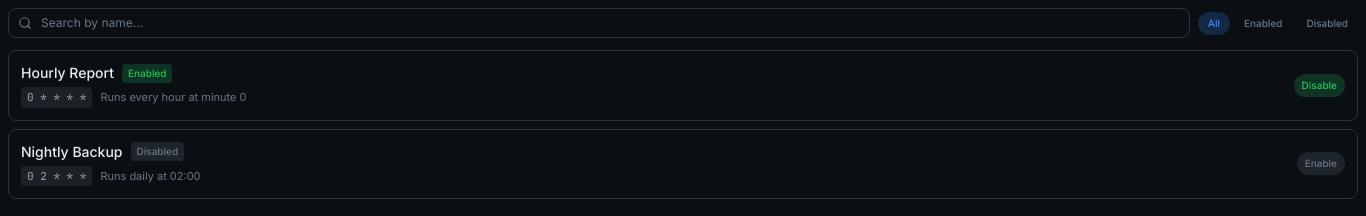
ScheduleViewerPane › filters by enabled/disabled pills
Expected: the text "Hourly Report" is shown, x1=21 y1=63 x2=114 y2=83
Click the button "disabled". click: click(1327, 23)
box: x1=1296 y1=12 x2=1358 y2=34
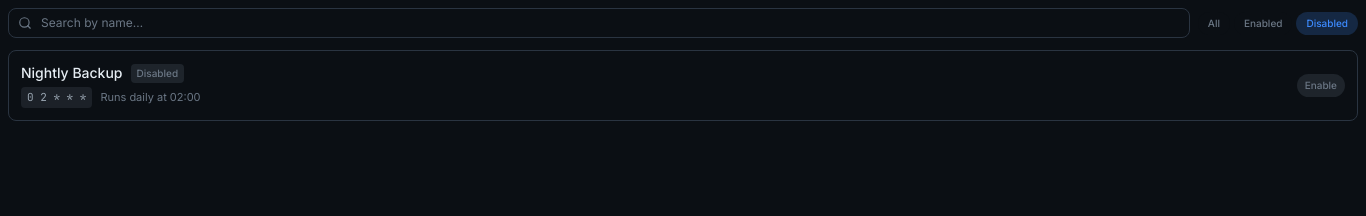
Expected: the text "Nightly Backup" is shown, x1=21 y1=63 x2=122 y2=83
Now the text "Hourly Report" is gone
